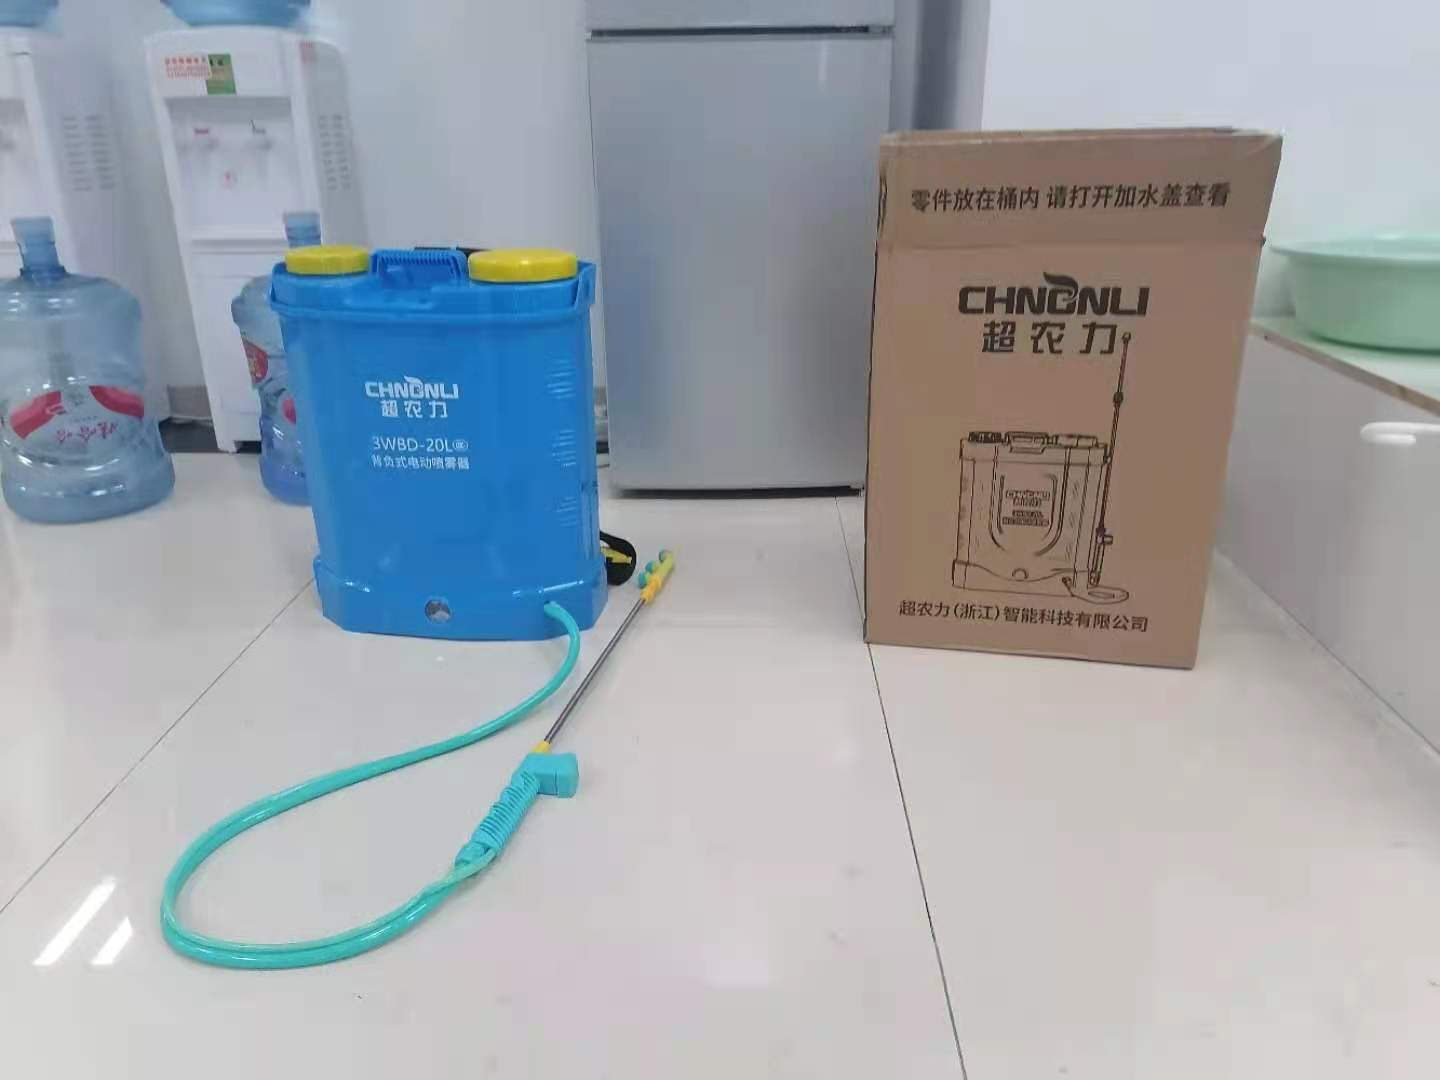berrl: (260, 239, 615, 650)
